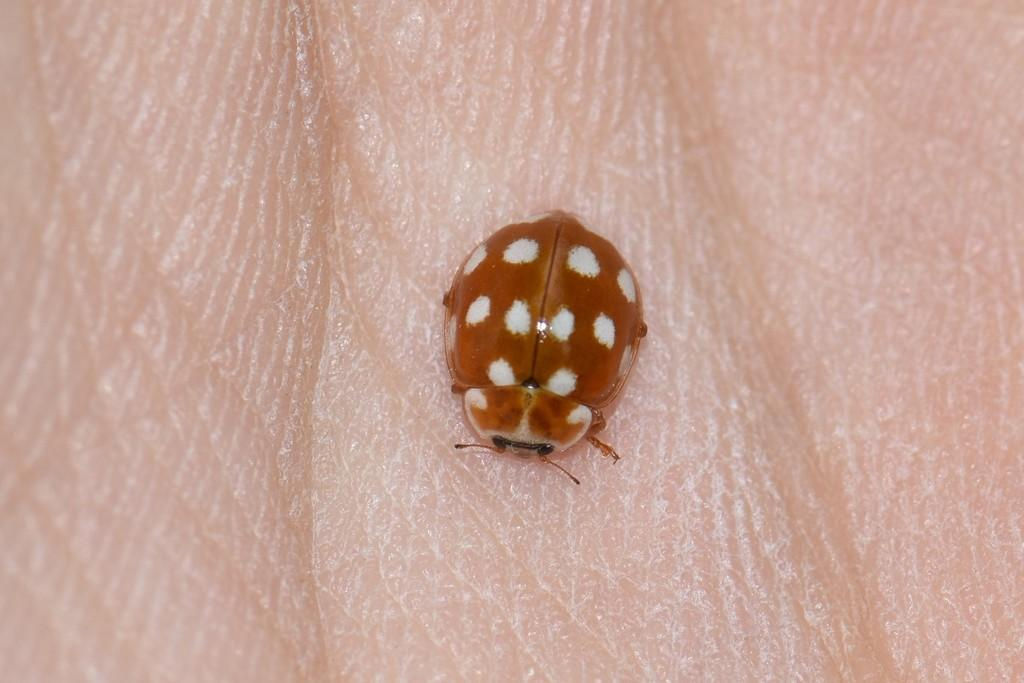ladybug: (441, 205, 653, 487)
